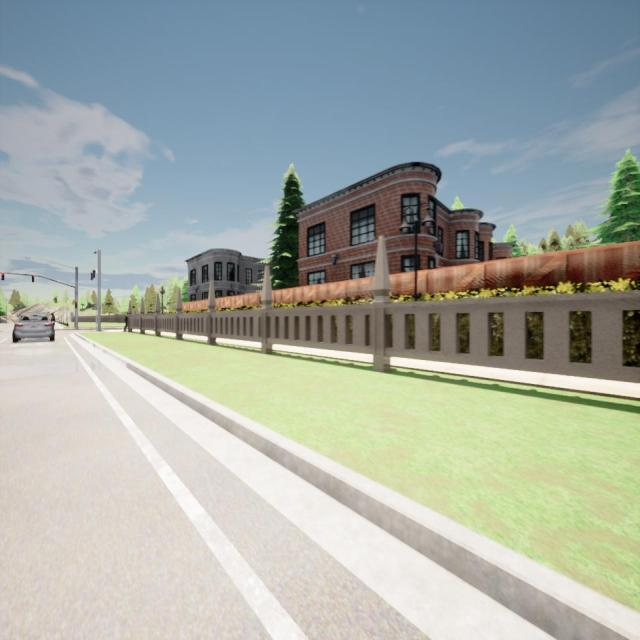Pedestrian: (124, 312, 128, 332), (50, 312, 55, 322)
Traffic_Signs: (92, 306, 100, 310)
Vehicle: (12, 312, 56, 343)
traffic_light: (92, 270, 96, 278), (90, 272, 93, 280), (32, 274, 34, 282), (74, 301, 76, 309), (2, 273, 4, 280)
